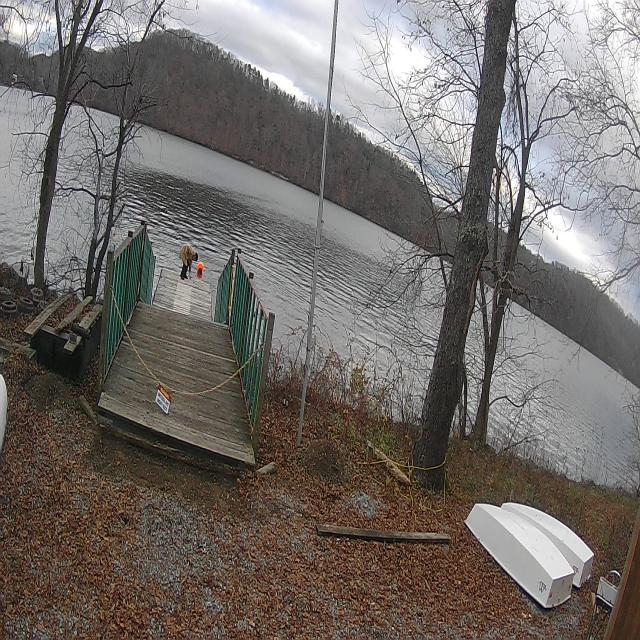Buoy: (197, 260, 205, 275)
